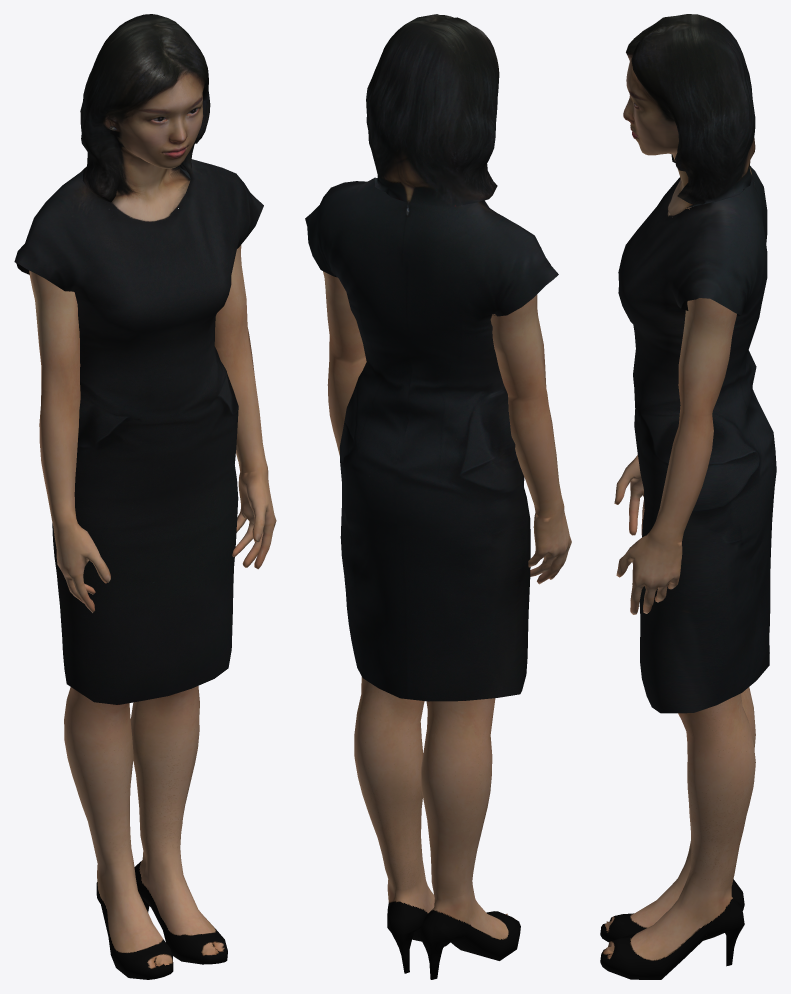
File: housewife.obj
3 renders of one model, left to right at view 1: azimuth 30°, elevation 25°; view 2: azimuth 150°, elevation 25°; view 3: azimuth 270°, elevation 25°, orthographic.
Visible parts, largest first — view 1: hhp227_cloth, hhp227_body, hhp227_head; view 2: hhp227_cloth, hhp227_body, hhp227_head; view 3: hhp227_cloth, hhp227_body, hhp227_head.
Part boxes in pixels (x1=…): hhp227_cloth: x1=14, y1=159, x2=263, y2=704; hhp227_body: x1=29, y1=245, x2=276, y2=979; hhp227_head: x1=80, y1=14, x2=210, y2=220; hhp227_cloth: x1=305, y1=178, x2=558, y2=701; hhp227_body: x1=323, y1=271, x2=571, y2=979; hhp227_head: x1=366, y1=14, x2=499, y2=206; hhp227_cloth: x1=618, y1=166, x2=776, y2=713; hhp227_body: x1=600, y1=207, x2=755, y2=979; hhp227_head: x1=623, y1=14, x2=755, y2=215.
Bounding box in the file's own units: 19.29 × 69.54 × 11.85.
